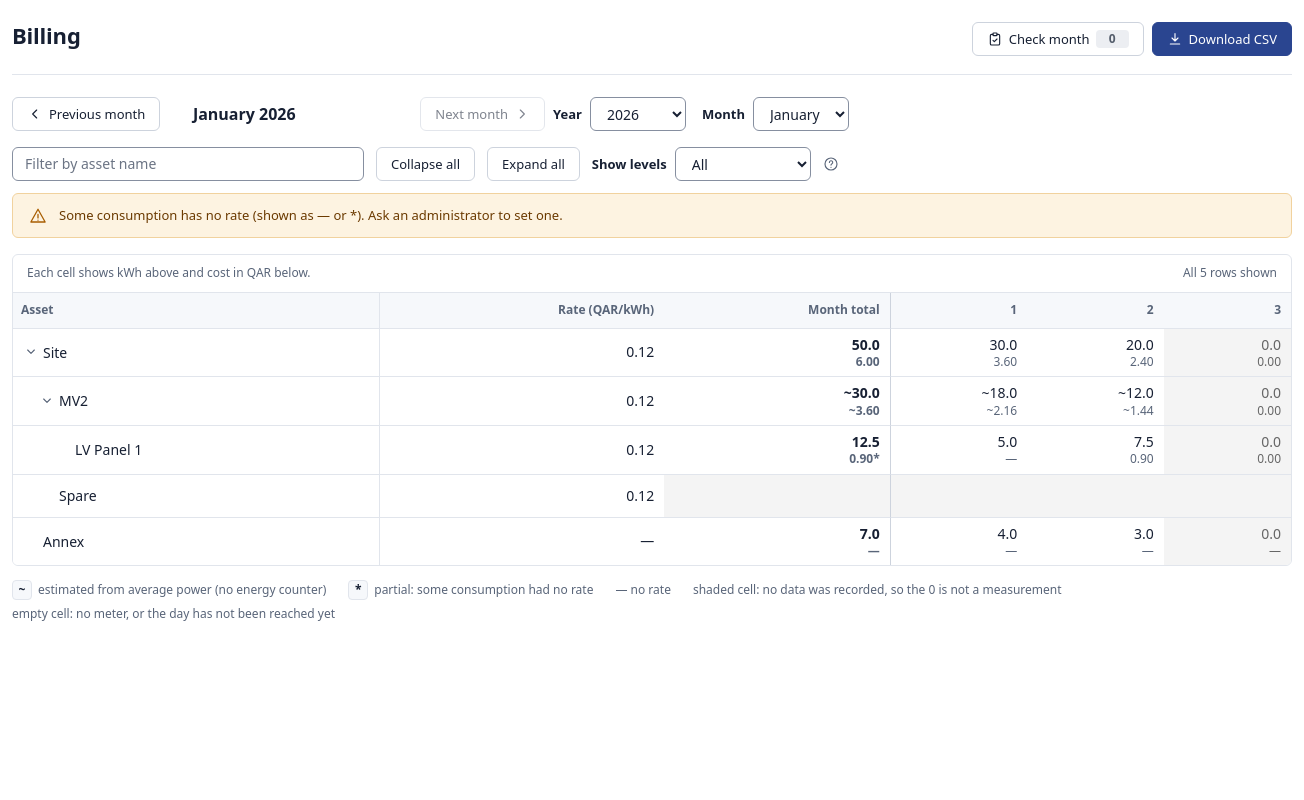
Test case: BillingPage › steps to the previous month and back, across a year end
Check: the text "January 2026" is shown, box top-left (193, 103), bottom-right (296, 125)
Click the button "Previous month".
click(86, 114)  # box top-left (12, 97), bottom-right (160, 131)
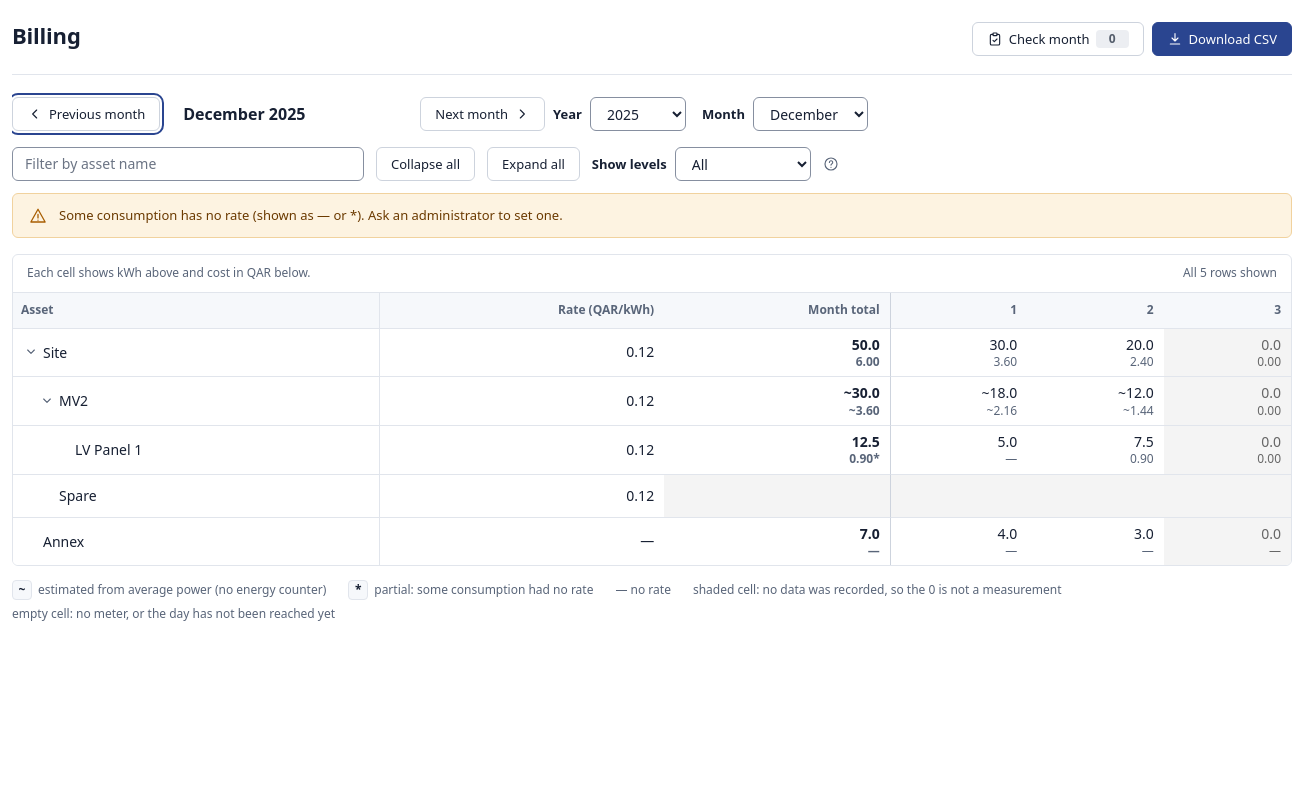
Check: the text "December 2025" is shown, box top-left (183, 103), bottom-right (305, 125)
Click the button "Next month".
click(483, 114)  # box top-left (420, 97), bottom-right (545, 131)
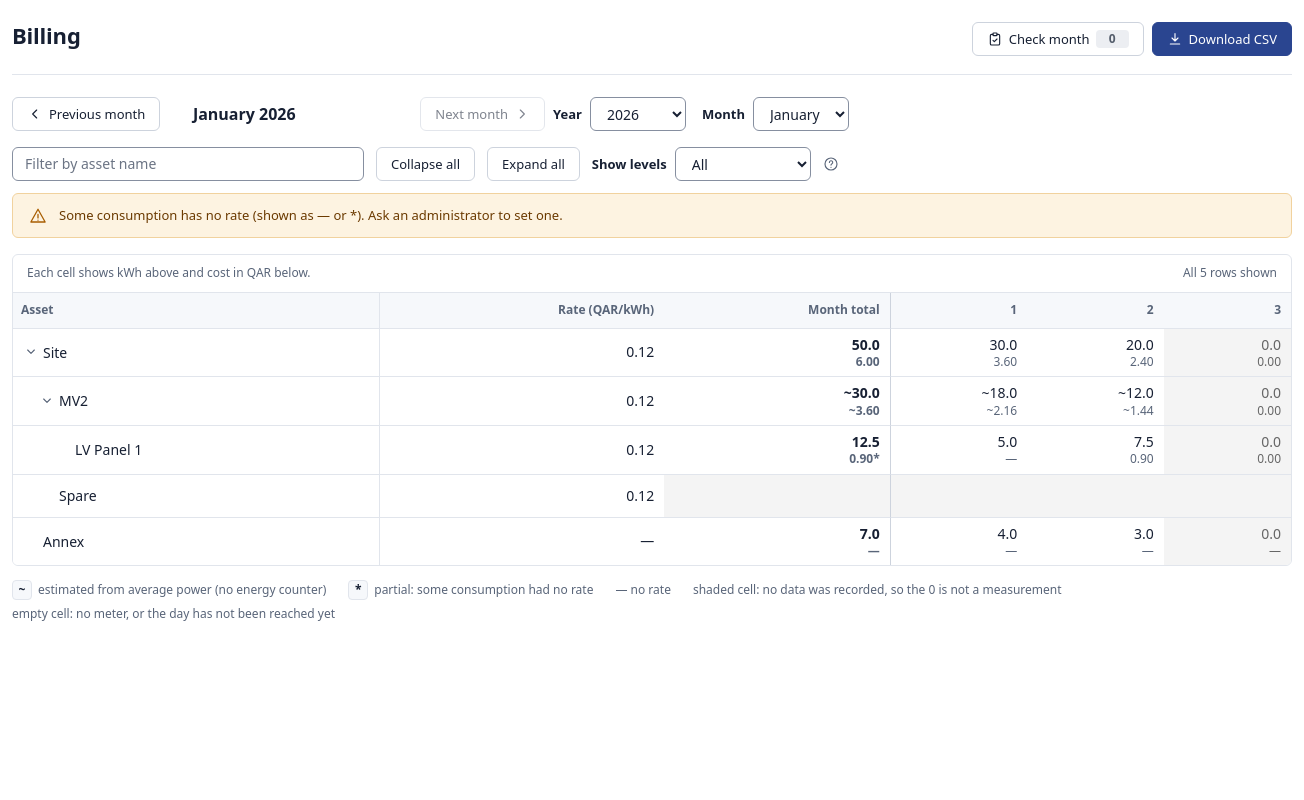
Check: the text "January 2026" is shown, box top-left (193, 103), bottom-right (296, 125)
